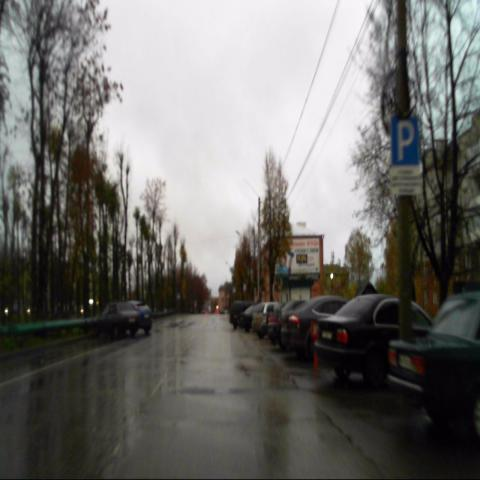6_4: (391, 117, 419, 166)
